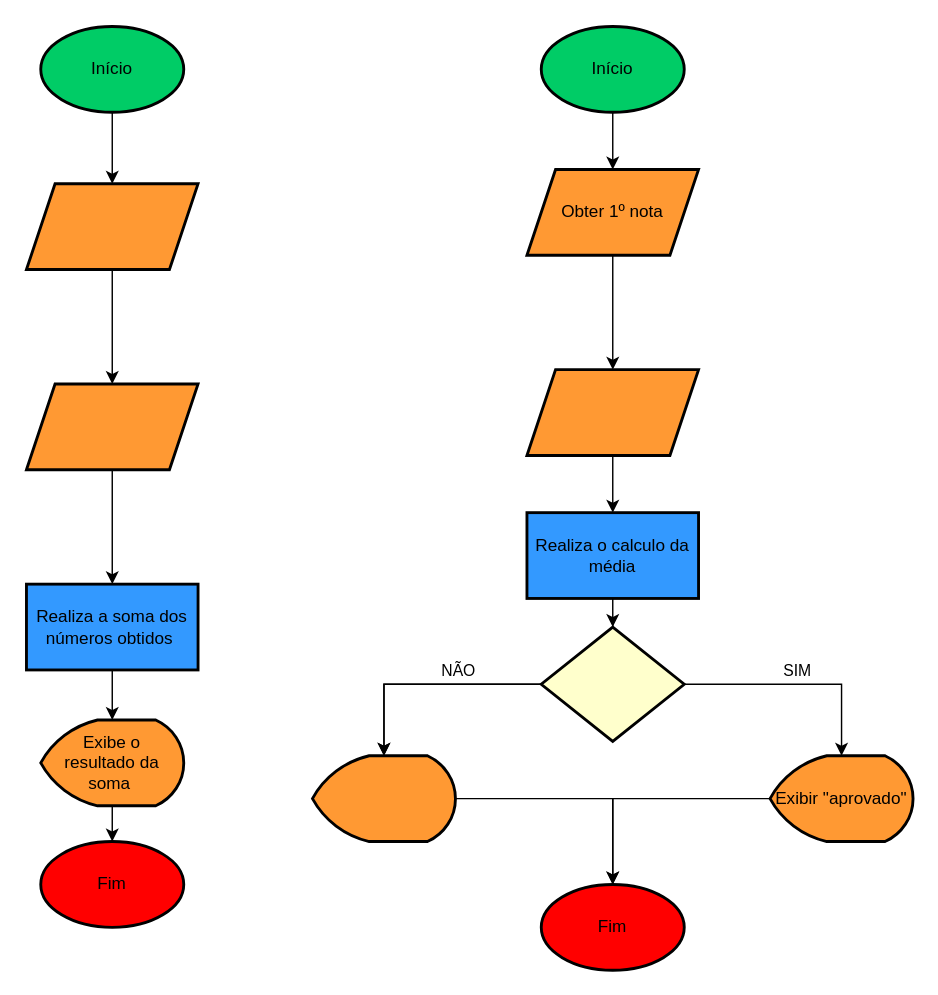
Image size: 938x995. Some labels were removed from this diagram. Each missing label, with the centre of its shape:
Exibir "desaprovado": point (383, 798)
Média acima de 7: point (612, 683)
Obter 2º nota: point (612, 412)
Recebe o 1º número: point (111, 226)
Recebe o 2º número: point (111, 426)
